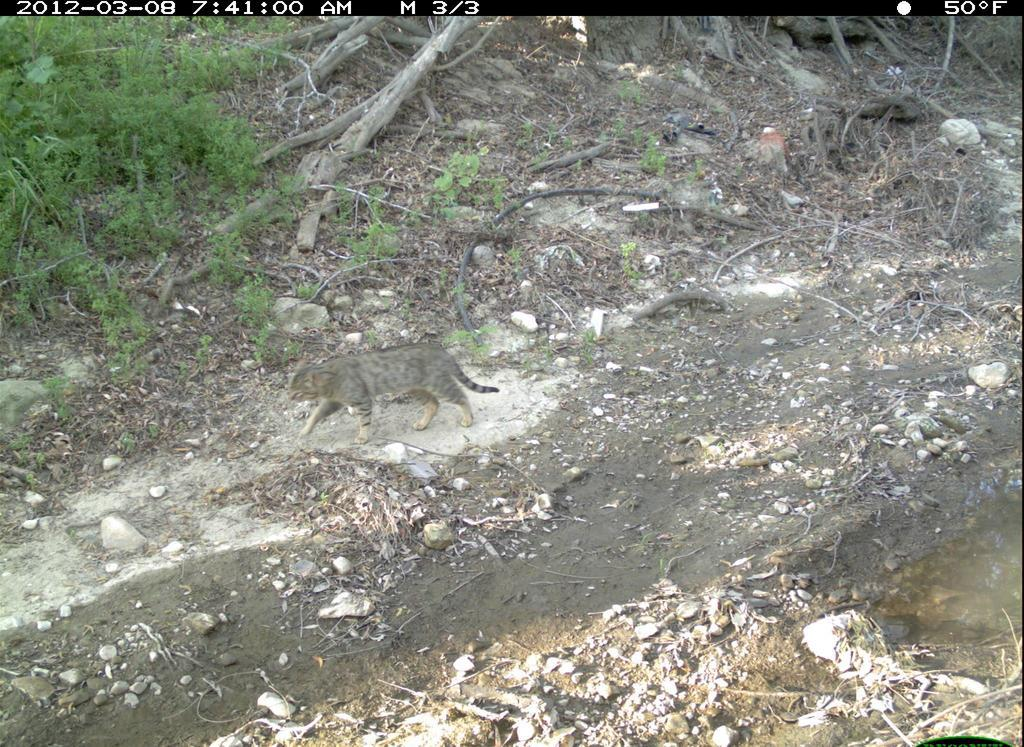cat: (287, 335, 504, 451)
